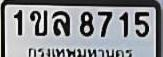1: (119, 11, 129, 38), (13, 9, 23, 36)
5: (134, 11, 149, 38)
7: (97, 10, 113, 38)
8: (79, 10, 94, 37)
A02: (29, 9, 48, 36)
A36: (51, 10, 71, 37)
